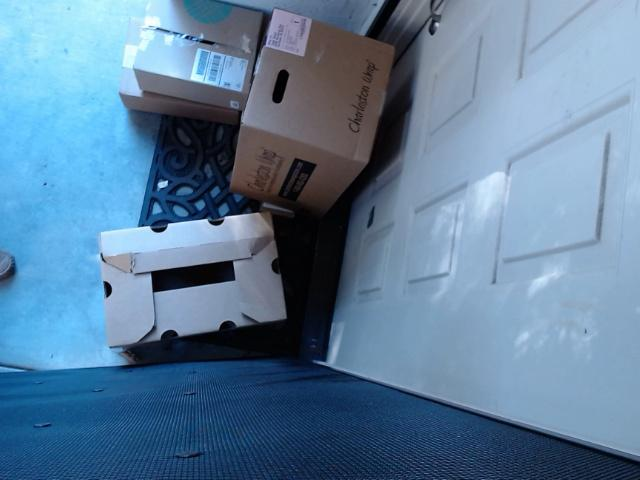box: (224, 9, 382, 234), (84, 209, 315, 356), (94, 0, 281, 128)
